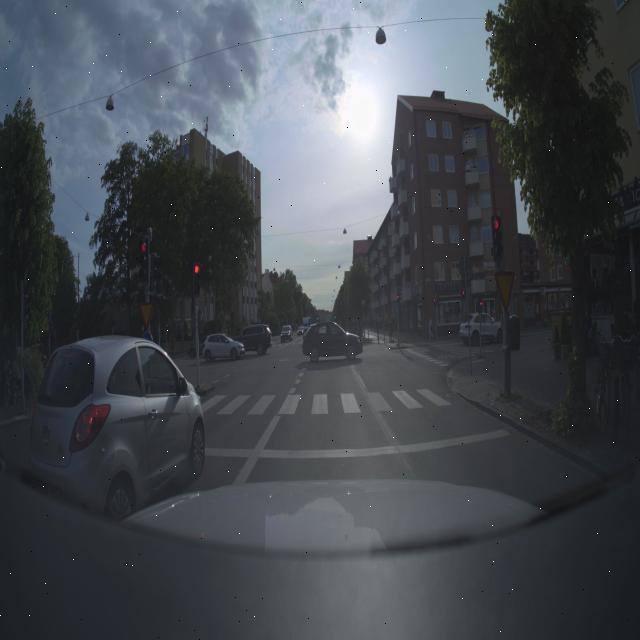red_light: (120, 215, 164, 292), (483, 208, 516, 278), (186, 250, 208, 302)
